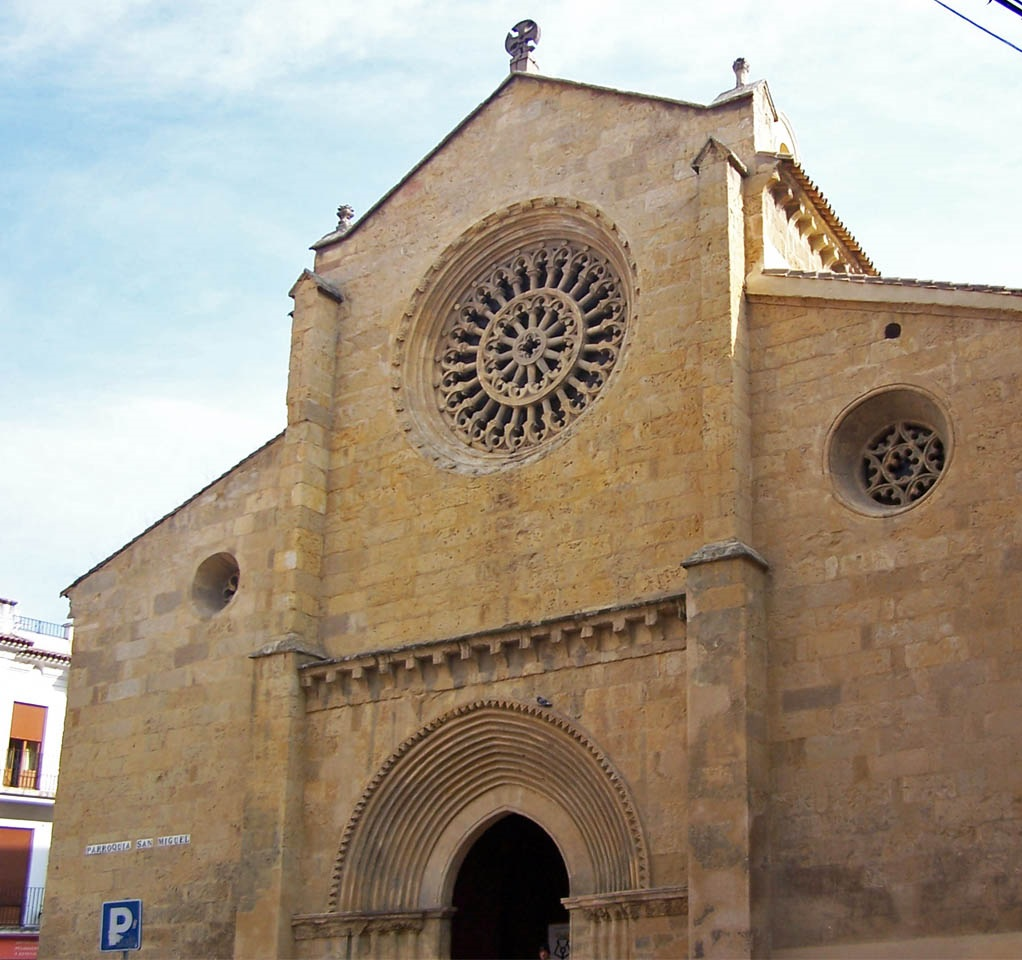arco-apuntado: (432, 799, 584, 918)
